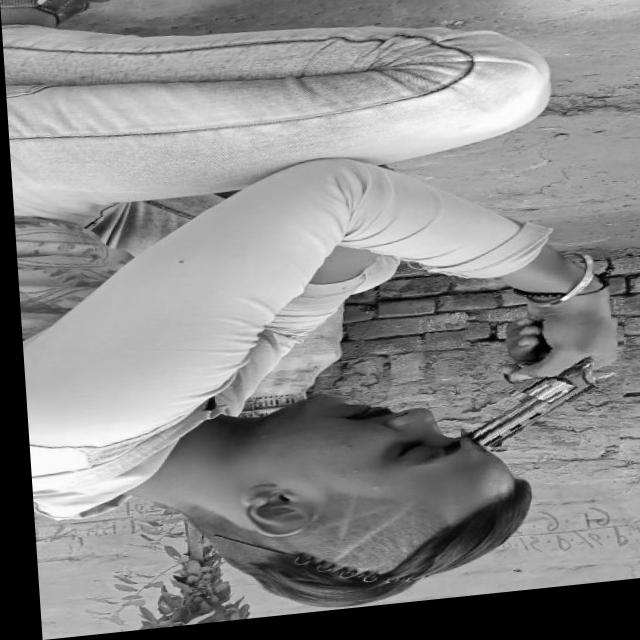handgun: (450, 317, 623, 472)
